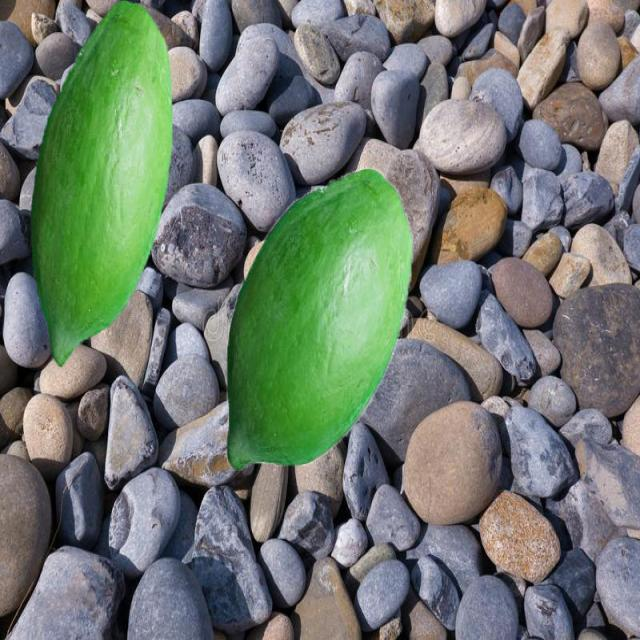Pepaya unrippen: (217, 176, 407, 478), (32, 12, 172, 374)
